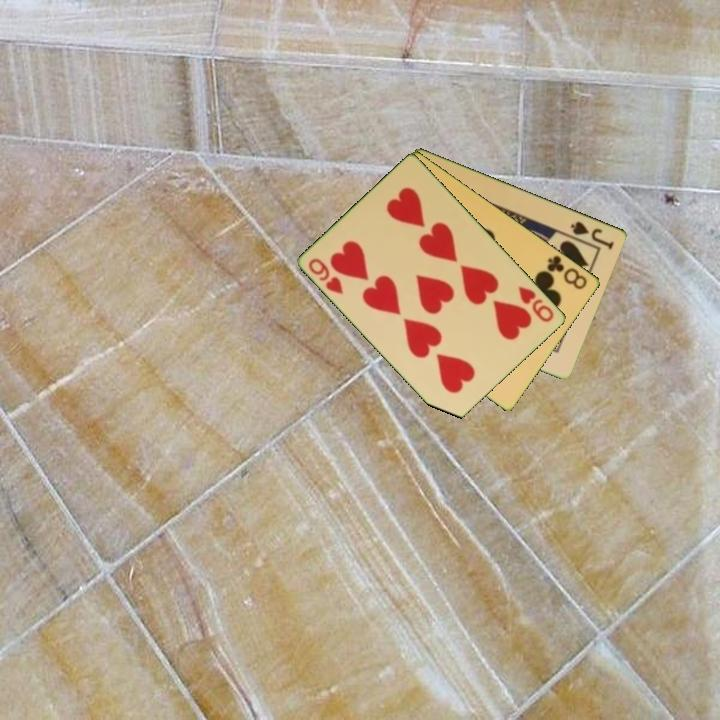8c: (544, 252, 591, 292)
9h: (515, 283, 557, 325), (305, 255, 346, 298)
Js: (567, 217, 617, 252)
